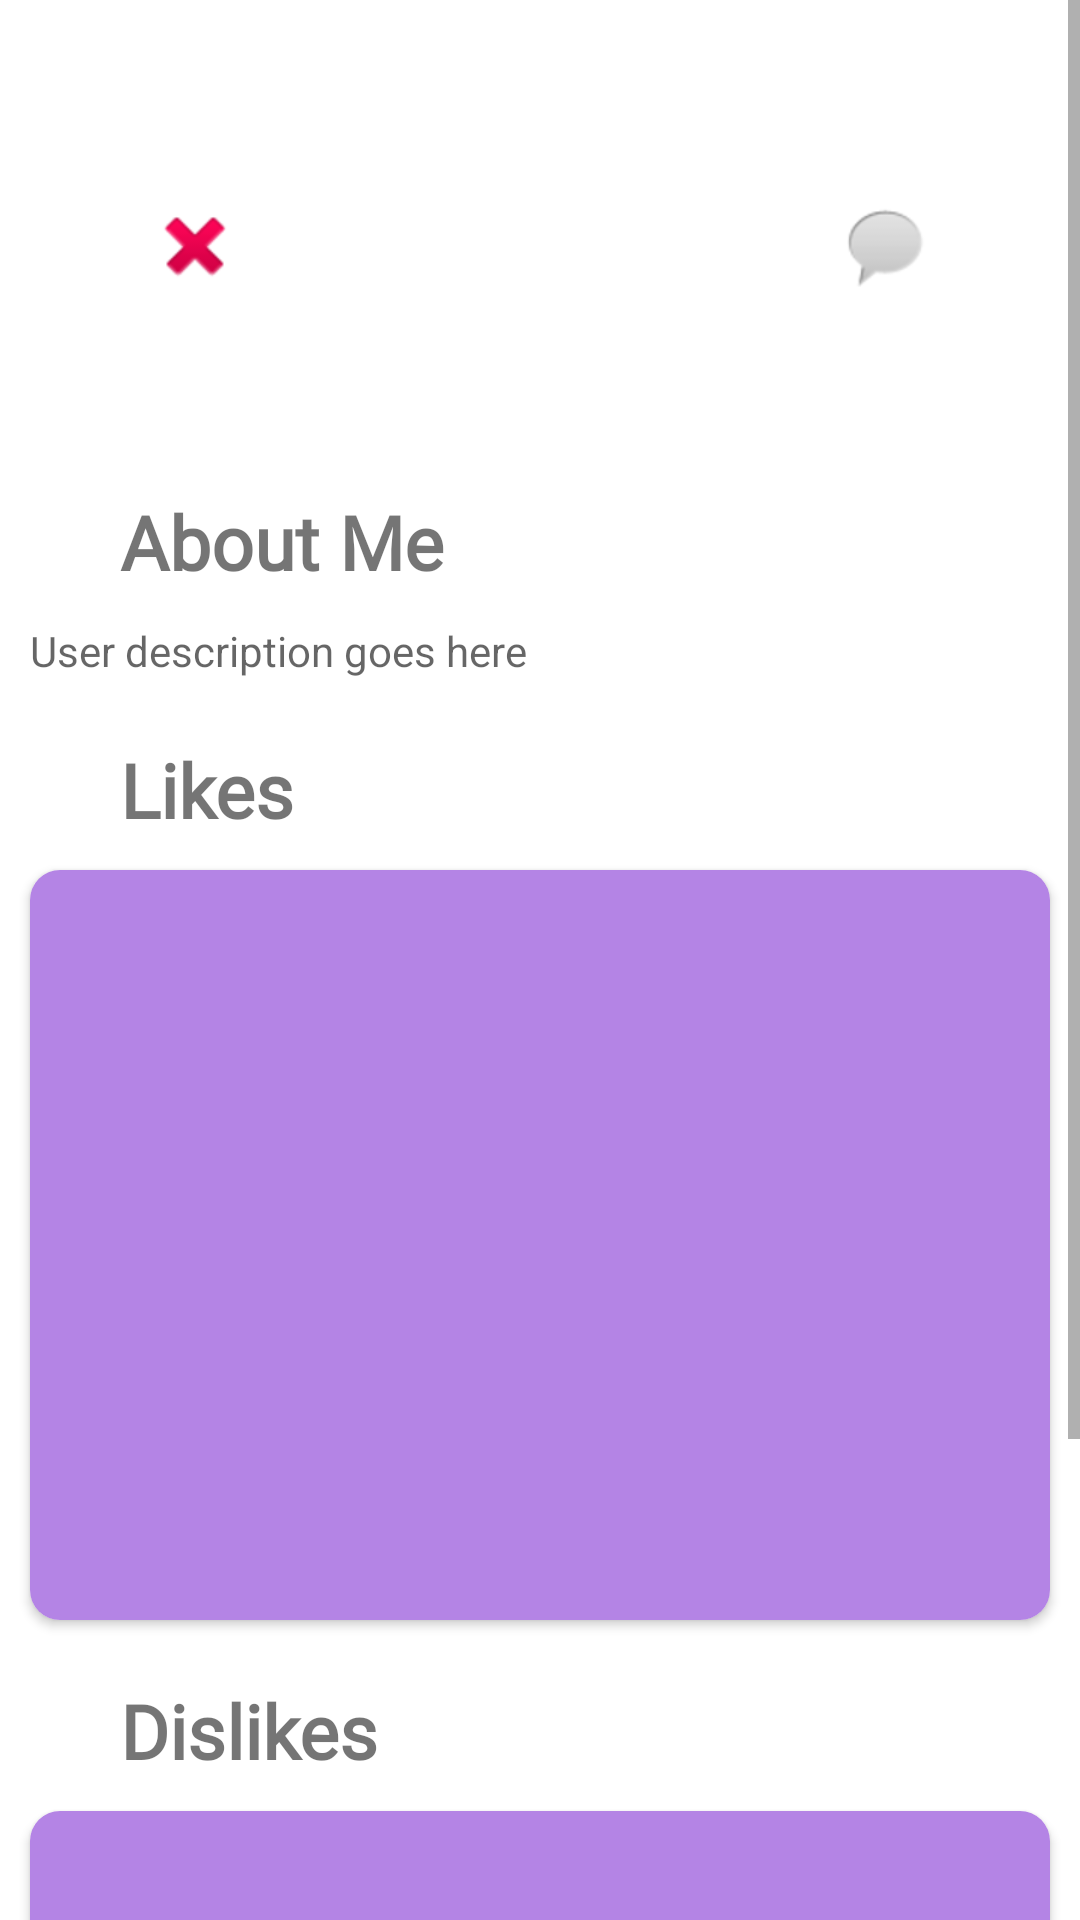

Icons on this 1080x1920 Android screen, each with the point to tap as [x,y]:
delete: [195,246]
sym action chat: [884,247]
